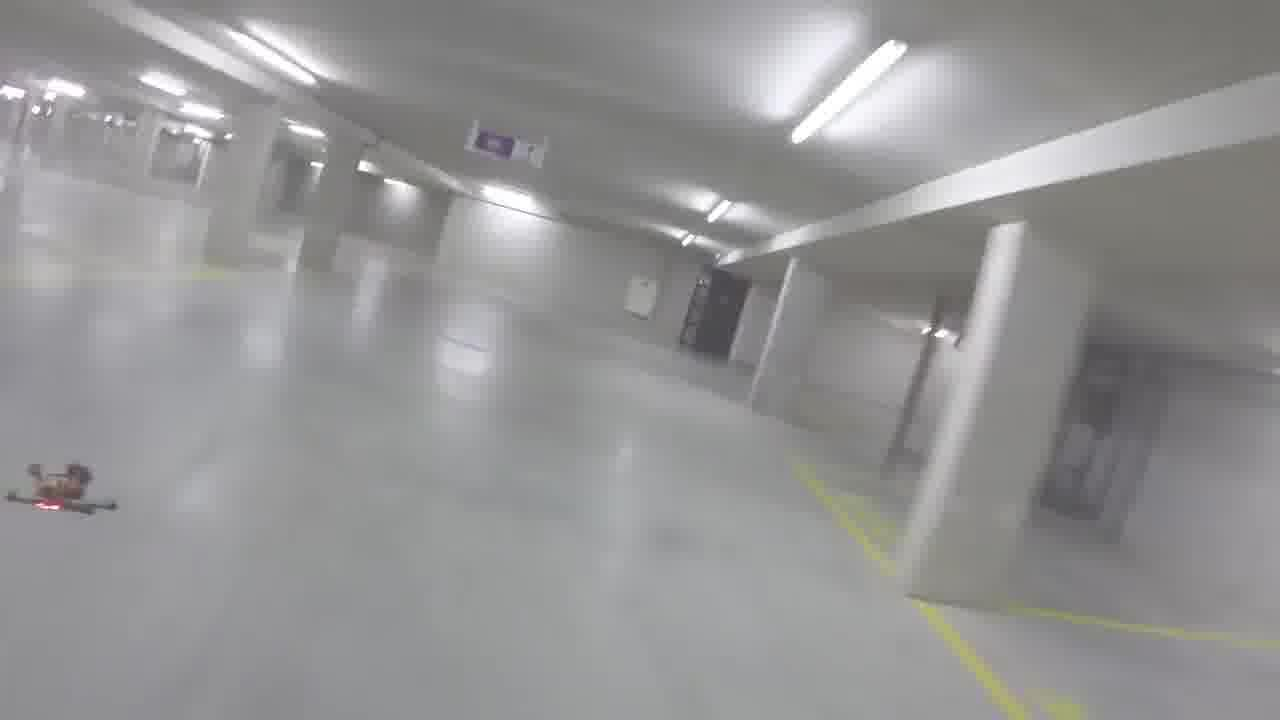drone: (7, 435, 118, 523)
